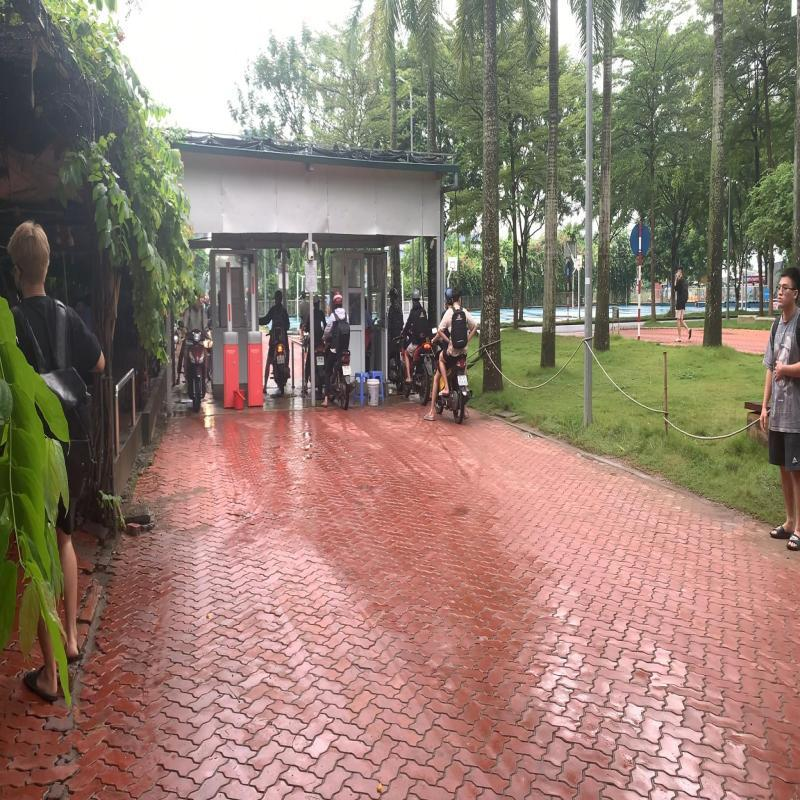nohelmet: (451, 286, 462, 305)
